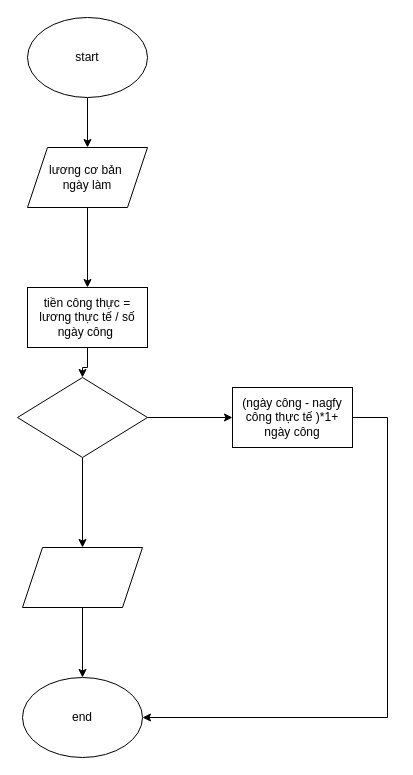
The diagram is 413 pixels wide and 775 high, and some of its shapes have lost their labels. Here are the shapes that lost their labels. From the top down, the box of each, then its label:
(16, 376, 148, 458): ngày công >ngày công thực tế
(22, 546, 142, 608): tiền lương
